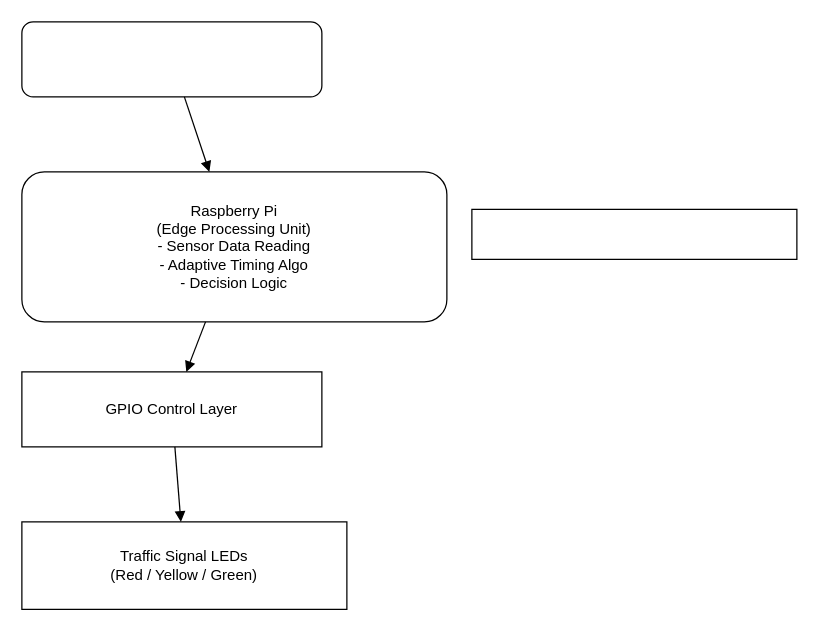
Some shapes in this 819 by 631 pixel diagram are drawn without their labels. Here are the shapes that lost their labels. From the top down, the centre of each, then its label:
At point 171,59: "IR / Ultrasonic Sensors".
At point 634,233: "Edge Processing | Low Latency | Real-Time Control".
